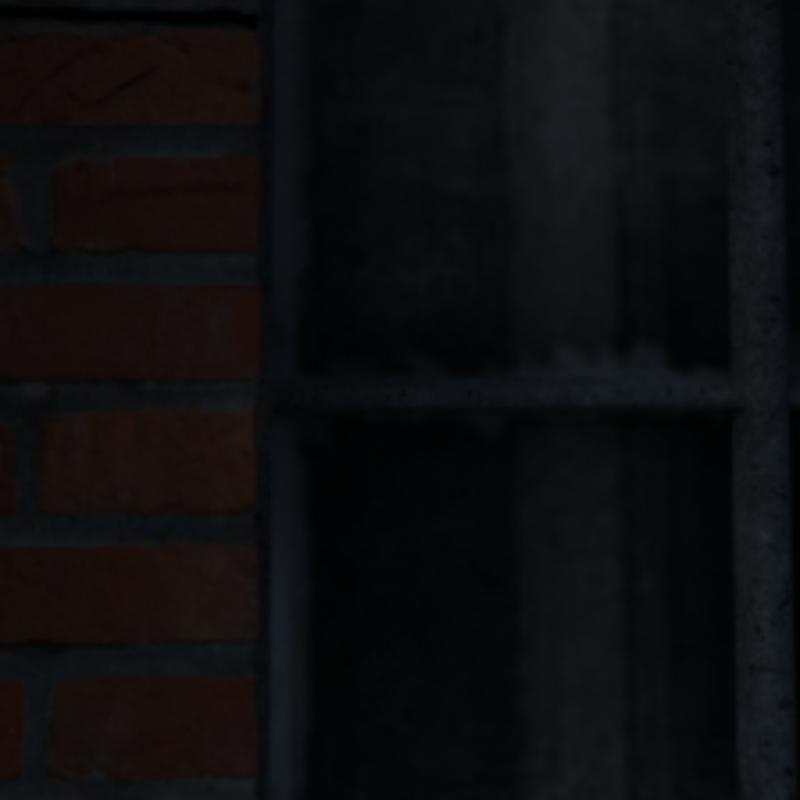crack: (0, 7, 254, 25)
